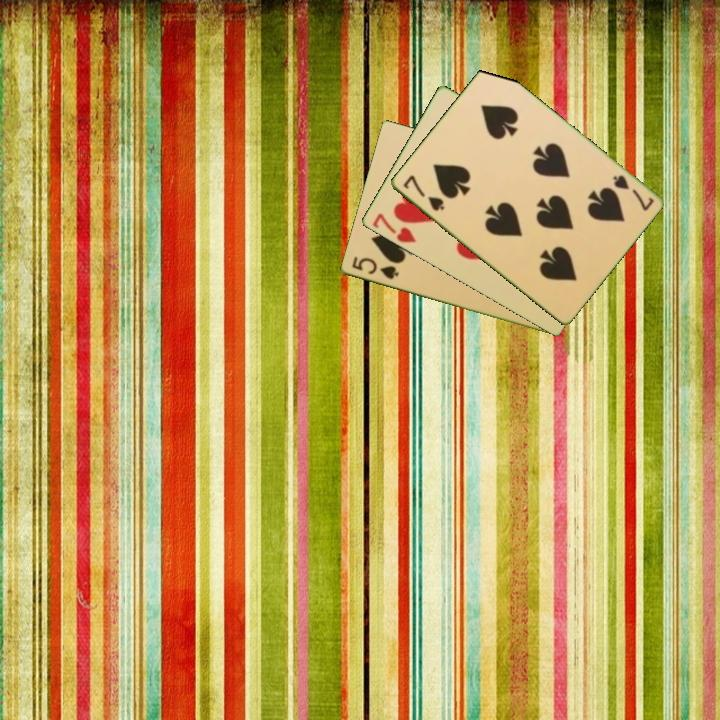5s: (348, 253, 401, 282)
7h: (369, 210, 419, 246)
7s: (609, 171, 656, 214), (399, 172, 447, 214)
